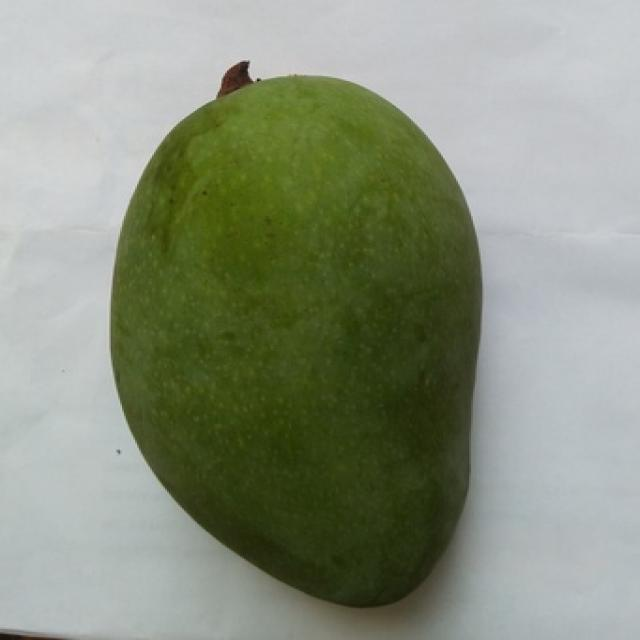Mango: (111, 78, 480, 605)
